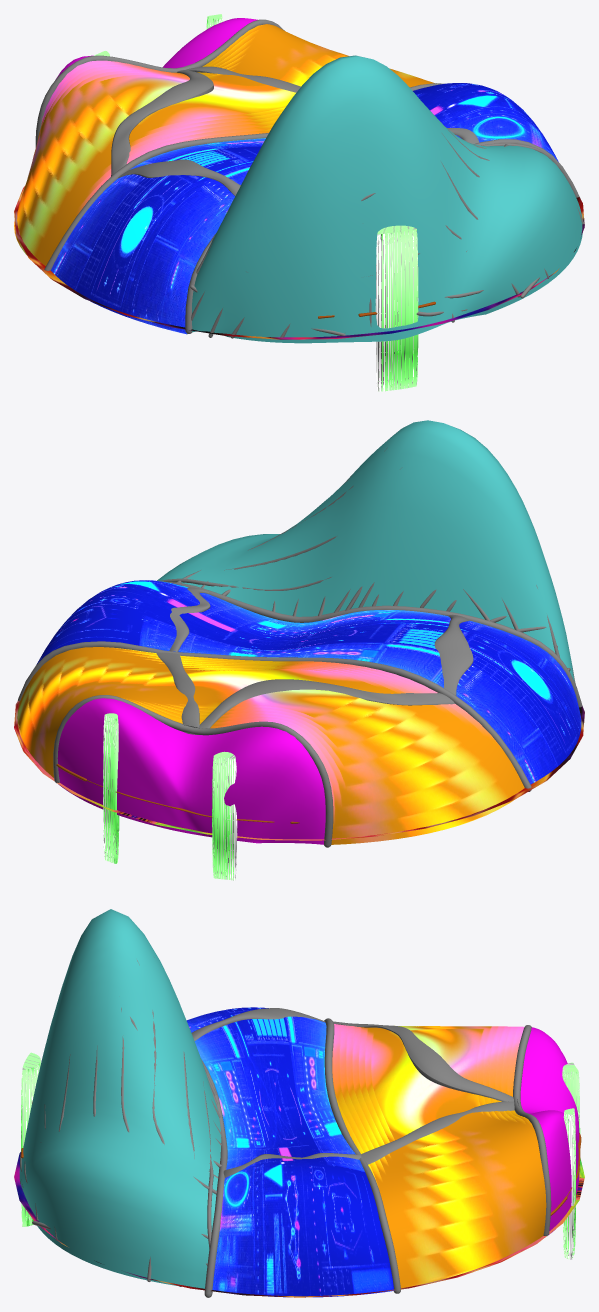
Rendered from PersonalWeb.glb.
The picture shows the model from 3 angles, top to bottom: view 1: azimuth 30°, elevation 25°; view 2: azimuth 150°, elevation 25°; view 3: azimuth 270°, elevation 25°; orthographic projection.
Visible parts, largest first — view 1: Object_3, Object_8, Object_6, Object_36, Object_37, Object_62, Object_2, Object_7, Object_39, Object_59, Object_63; view 2: Object_3, Object_8, Object_6, Object_7, Object_37, Object_36, Object_62, Object_39, Object_2, Object_59, Object_63, Object_60 (+1 smaller); view 3: Object_3, Object_6, Object_8, Object_7, Object_37, Object_36, Object_62, Object_2, Object_39, Object_63, Object_59, Object_60.
Boxes of the visible parts, x1,y1,x2,y2 form: Object_3: (187, 55, 582, 343); Object_8: (14, 24, 434, 265); Object_6: (51, 83, 558, 334); Object_36: (94, 14, 418, 391); Object_37: (44, 83, 580, 335); Object_62: (111, 70, 213, 176); Object_2: (14, 186, 584, 339); Object_7: (55, 18, 257, 79); Object_39: (35, 19, 284, 147); Object_59: (118, 159, 240, 195); Object_63: (186, 66, 300, 92); Object_3: (157, 420, 574, 681); Object_8: (17, 647, 524, 844); Object_6: (36, 580, 581, 784); Object_7: (57, 698, 325, 844); Object_37: (18, 581, 582, 791); Object_36: (103, 713, 237, 880); Object_62: (199, 679, 455, 728); Object_39: (53, 695, 333, 847); Object_2: (14, 701, 584, 840); Object_59: (434, 614, 473, 695); Object_63: (156, 652, 199, 727); Object_60: (169, 587, 210, 651); Object_3: (19, 909, 221, 1288); Object_6: (186, 1007, 394, 1297); Object_8: (332, 1024, 546, 1289); Object_7: (520, 1027, 579, 1235); Object_37: (201, 1018, 400, 1297); Object_36: (21, 1052, 580, 1259); Object_62: (333, 1021, 513, 1101); Object_2: (14, 1152, 584, 1297); Object_39: (513, 1025, 551, 1235); Object_63: (361, 1101, 514, 1164); Object_59: (191, 1008, 324, 1040); Object_60: (223, 1153, 360, 1177).
Size of the model in its own units: 43.57 by 25.28 by 43.57.
Materials: 13 (2 with a texture image).
